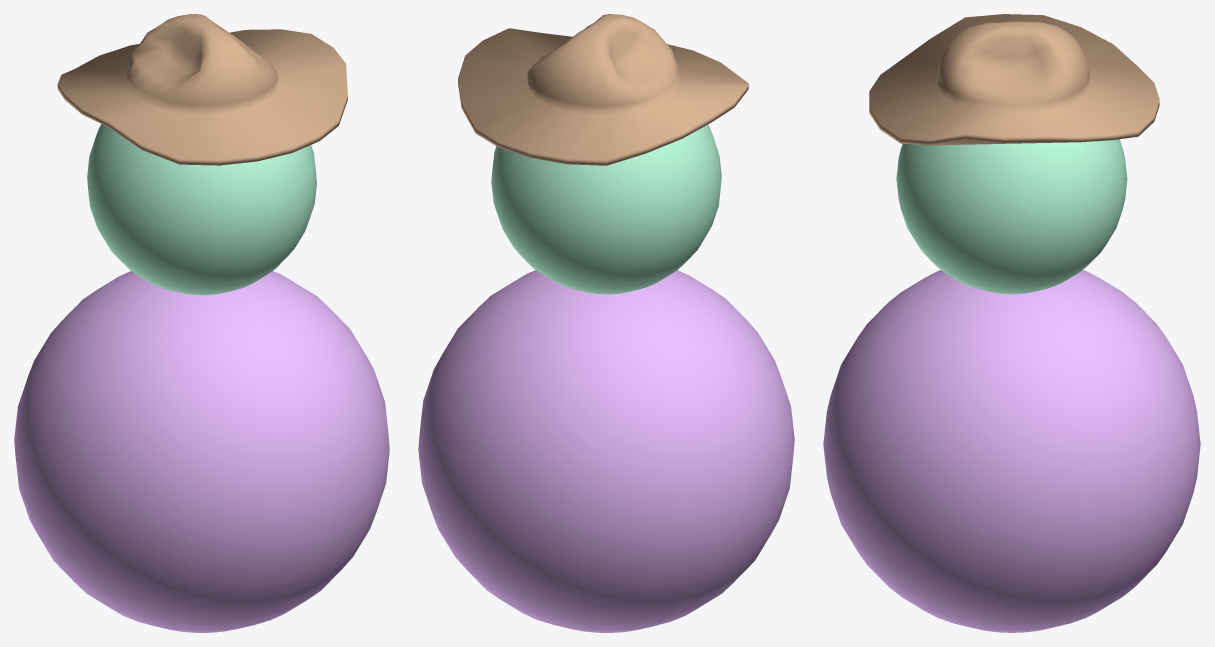
The model's file is Gosn10.fbx.
3 views of the same model, side by side, from view 1: azimuth 30°, elevation 25°; view 2: azimuth 150°, elevation 25°; view 3: azimuth 270°, elevation 25° (orthographic).
Visible parts, largest first — view 1: cika_6, cika_6.002, cika_6.001; view 2: cika_6, cika_6.002, cika_6.001; view 3: cika_6, cika_6.002, cika_6.001.
Part boxes in pixels (left/top/right/bottom): cika_6: left=14, top=271, right=389, bottom=632; cika_6.002: left=57, top=14, right=347, bottom=165; cika_6.001: left=87, top=124, right=316, bottom=295; cika_6: left=418, top=270, right=794, bottom=632; cika_6.002: left=458, top=14, right=748, bottom=165; cika_6.001: left=491, top=124, right=721, bottom=294; cika_6: left=823, top=270, right=1200, bottom=632; cika_6.002: left=869, top=14, right=1159, bottom=145; cika_6.001: left=896, top=139, right=1127, bottom=294.
Size of the model in its own units: 5301 by 9176 by 5301.
